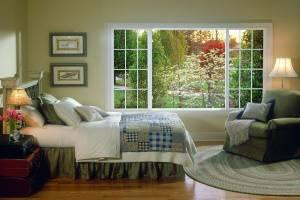window: (107, 23, 270, 111)
